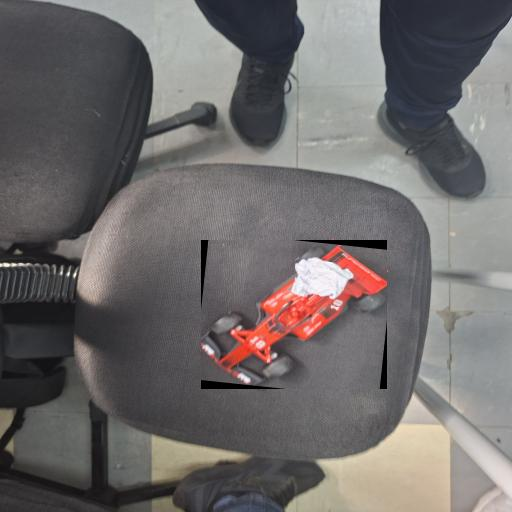carro: (202, 241, 386, 388)
